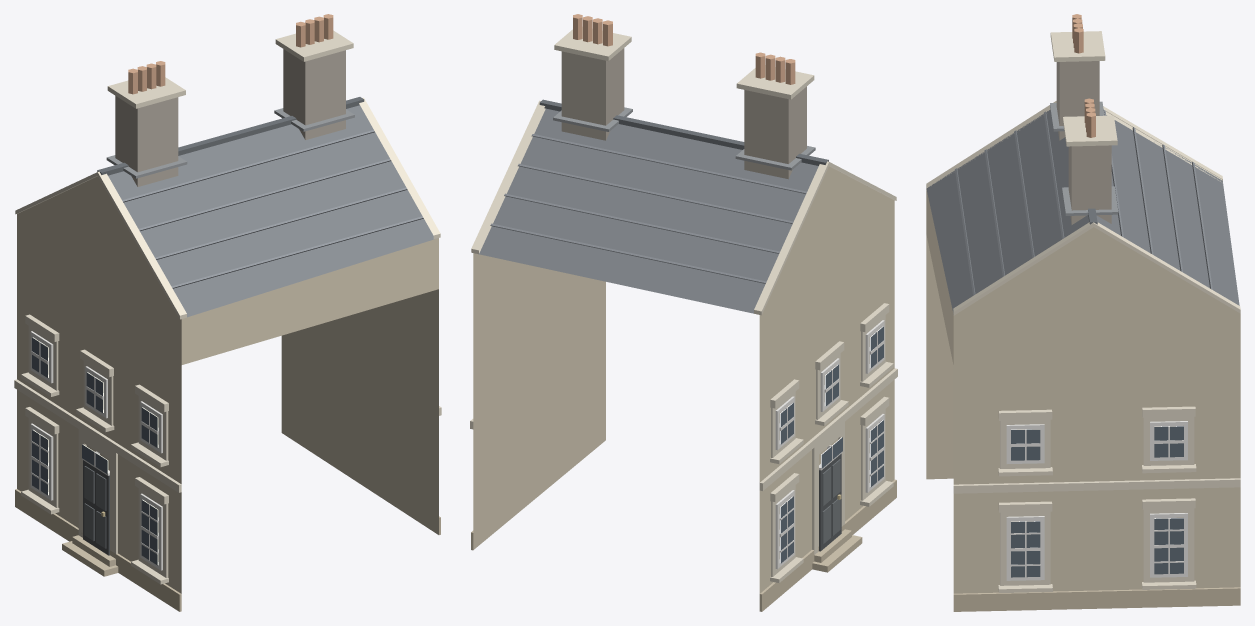
3 views of the same model, side by side, from view 1: azimuth 30°, elevation 25°; view 2: azimuth 150°, elevation 25°; view 3: azimuth 270°, elevation 25° (orthographic).
Parts seen in each view (by area): view 1: ss, slate, ss_lt, chim_stone, ss_dk, frame, slate_lt, pot, door_dark_p, slate_dk, lead, door_dark (+2 smaller); view 2: ss, slate, ss_lt, chim_stone, slate_lt, ss_dk, frame, pot, slate_dk, door_dark_p, lead, door_dark (+2 smaller); view 3: ss, slate, ss_lt, ss_dk, chim_stone, frame, slate_lt, window_glass_007, window_glass_009, lead, pot, window_glass_008 (+1 smaller).
Part boxes in pixels (left/top/right/bottom): ss: left=17, top=176, right=438, bottom=593; slate: left=108, top=105, right=434, bottom=317; ss_lt: left=14, top=30, right=441, bottom=584; chim_stone: left=115, top=49, right=345, bottom=186; ss_dk: left=15, top=489, right=440, bottom=611; frame: left=30, top=331, right=162, bottom=570; slate_lt: left=122, top=130, right=423, bottom=288; pot: left=128, top=14, right=333, bottom=94; door_dark_p: left=84, top=466, right=106, bottom=548; slate_dk: left=97, top=97, right=364, bottom=175; lead: left=106, top=108, right=354, bottom=178; door_dark: left=83, top=460, right=109, bottom=555; ss: left=473, top=166, right=894, bottom=593; slate: left=479, top=108, right=818, bottom=313; ss_lt: left=470, top=27, right=897, bottom=582; chim_stone: left=561, top=48, right=806, bottom=179; slate_lt: left=490, top=134, right=806, bottom=283; ss_dk: left=471, top=479, right=896, bottom=611; frame: left=775, top=320, right=884, bottom=569; pot: left=573, top=14, right=795, bottom=84; slate_dk: left=539, top=99, right=828, bottom=165; door_dark_p: left=822, top=459, right=840, bottom=544; lead: left=553, top=107, right=815, bottom=170; door_dark: left=819, top=453, right=841, bottom=551; ss: left=926, top=189, right=1240, bottom=593; slate: left=926, top=110, right=1239, bottom=312; ss_lt: left=926, top=31, right=1240, bottom=592; ss_dk: left=953, top=587, right=1240, bottom=611; chim_stone: left=1056, top=61, right=1111, bottom=224; frame: left=1006, top=421, right=1187, bottom=580; slate_lt: left=955, top=110, right=1212, bottom=295; window_glass_007: left=1011, top=521, right=1040, bottom=577; window_glass_009: left=1154, top=518, right=1183, bottom=574; lead: left=1050, top=101, right=1118, bottom=215; pot: left=1072, top=14, right=1095, bottom=137; window_glass_008: left=1011, top=429, right=1040, bottom=460.
Size of the model in its own units: 8.28 by 12.44 by 7.45.
